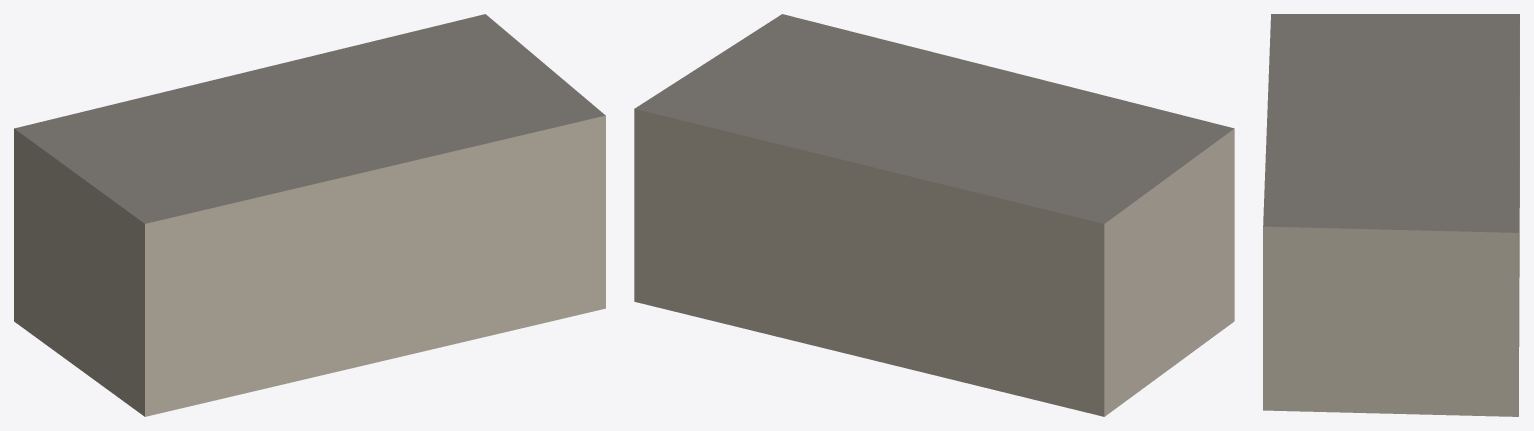
The picture shows the model from 3 angles, left to right: view 1: azimuth 30°, elevation 25°; view 2: azimuth 150°, elevation 25°; view 3: azimuth 270°, elevation 25°; orthographic projection. The views are drawn at different scales.
Visible parts, largest first — view 1: HP-w446934770; view 2: HP-w446934770; view 3: HP-w446934770.
Boxes of the visible parts, x1,y1,x2,y2 form: HP-w446934770: (14, 14, 605, 416); HP-w446934770: (634, 14, 1234, 416); HP-w446934770: (1263, 14, 1519, 416).
Size of the model in its own units: 38.29 by 15 by 18.97.
